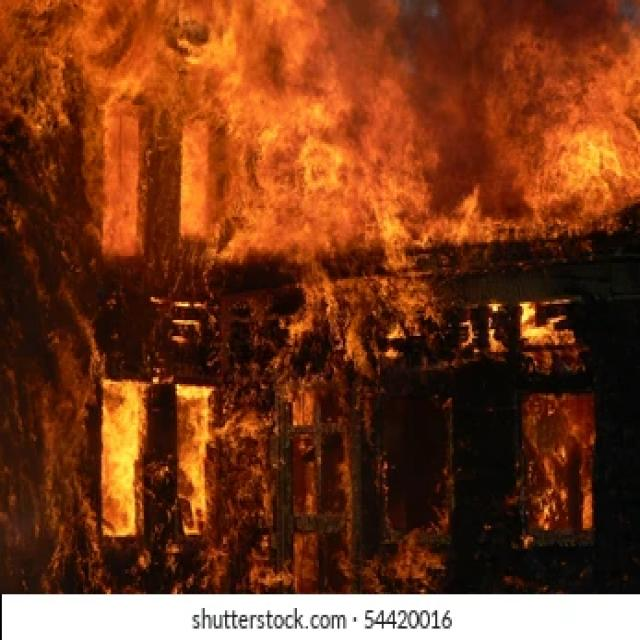fire: (0, 0, 598, 606)
